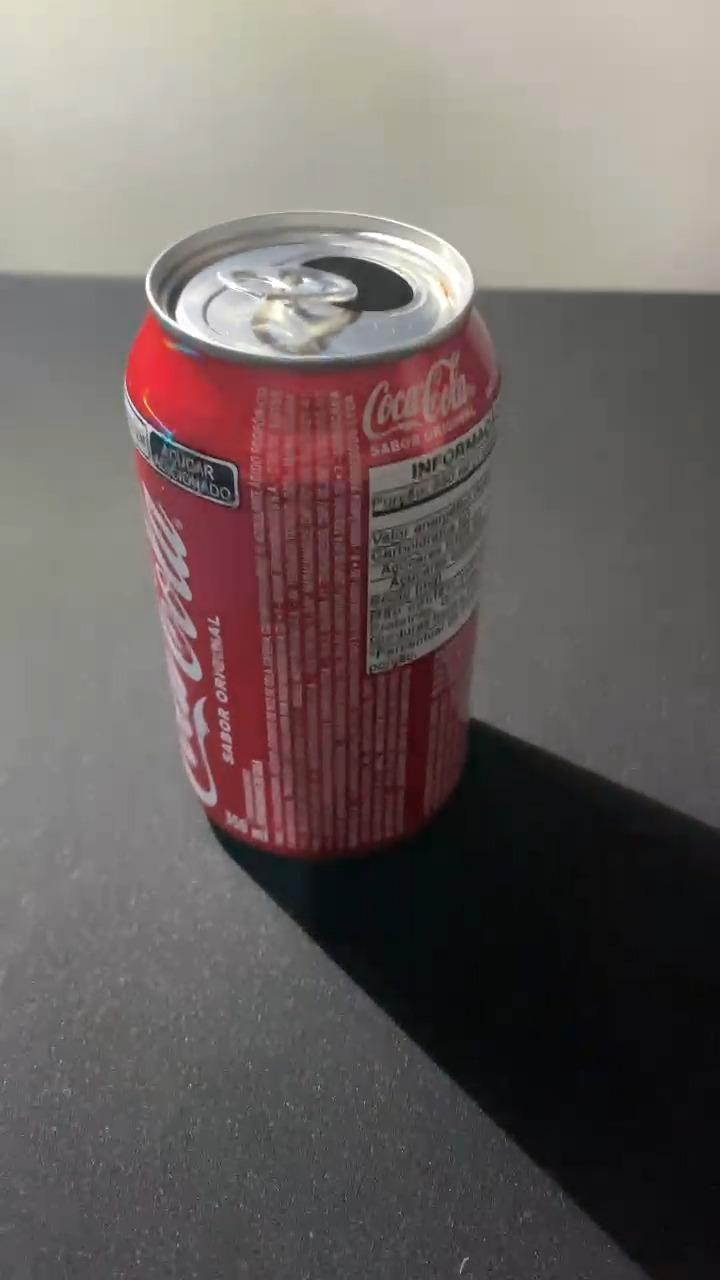coke: (127, 212, 498, 856)
